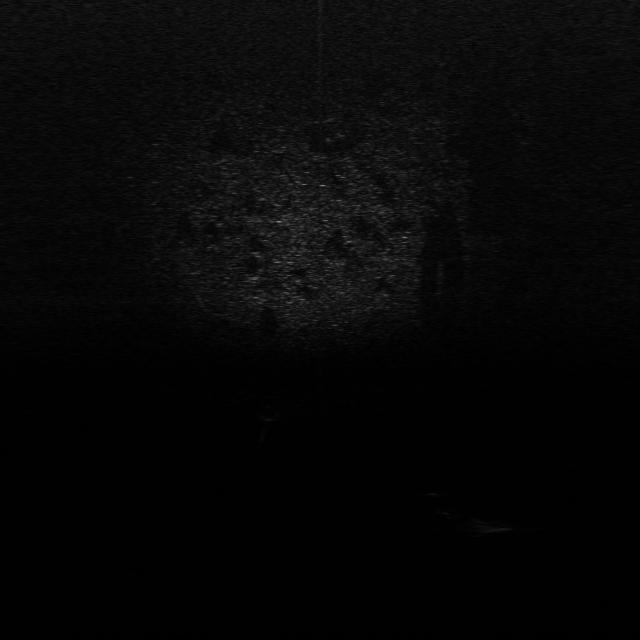metal bucket: (477, 516, 517, 535)
tyre: (419, 487, 473, 519)
